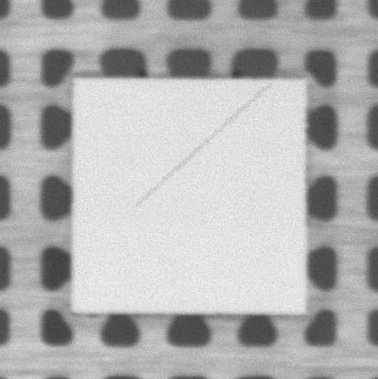DIE_CRACK: (138, 85, 268, 205)
